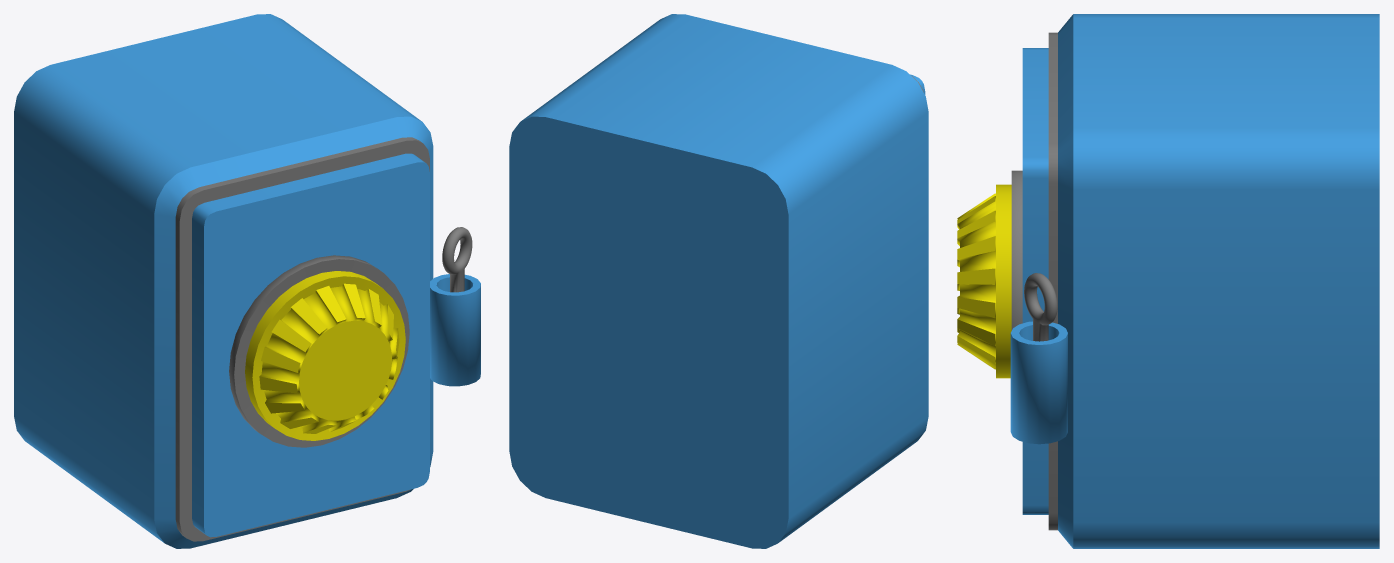
Rendered from Safe.fbx.
The picture shows the model from 3 angles, left to right: view 1: azimuth 30°, elevation 25°; view 2: azimuth 150°, elevation 25°; view 3: azimuth 270°, elevation 25°; orthographic projection. The views are drawn at different scales.
Visible parts, largest first — view 1: Safe; view 2: Safe; view 3: Safe.
Boxes of the visible parts, box(x1,y1,x2,y2) form: Safe: box(14, 14, 480, 548); Safe: box(509, 14, 928, 548); Safe: box(957, 14, 1379, 548).
Bounding box in the file's own units: 2.54 × 2.76 × 3.
